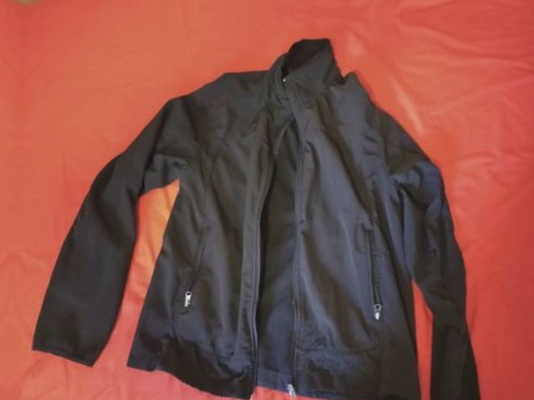Blazer: (31, 40, 510, 400)
